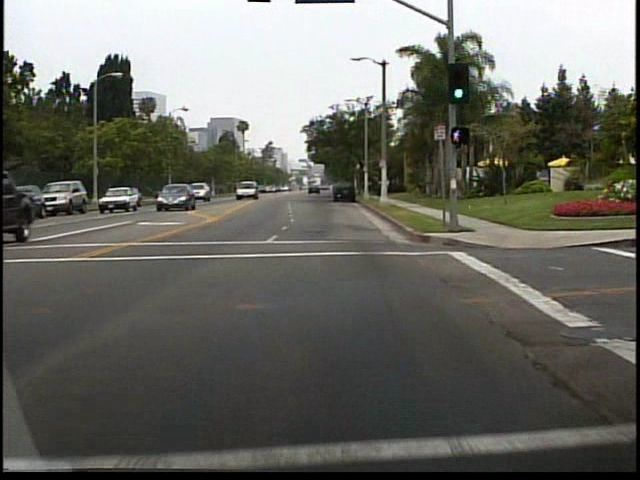person: (381, 173, 393, 198), (376, 177, 386, 201)
